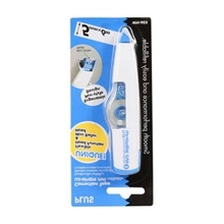book: (64, 15, 156, 210)
correction_fluid: (98, 25, 144, 175)
